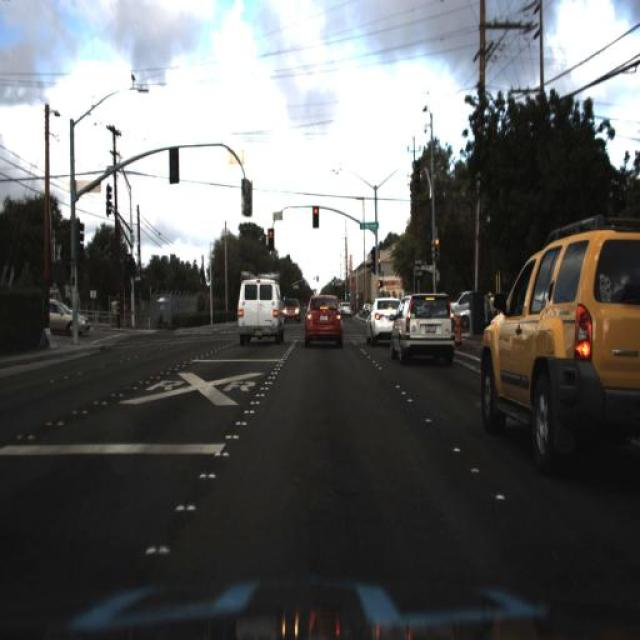car: (473, 223, 639, 471), (391, 284, 460, 365), (232, 266, 284, 343), (41, 286, 95, 342), (296, 294, 348, 350), (46, 296, 94, 343), (363, 298, 405, 344), (362, 290, 387, 348), (451, 302, 485, 334), (280, 299, 304, 331), (452, 290, 478, 312), (283, 298, 298, 323)
trafficLight: (482, 280, 501, 324)
trafficLight-Green: (264, 224, 274, 248)
trafficLight-RedLeft: (428, 231, 444, 268), (430, 230, 444, 258), (312, 204, 322, 236), (375, 253, 384, 279)
trafficLight-Yellow: (122, 249, 137, 285)
